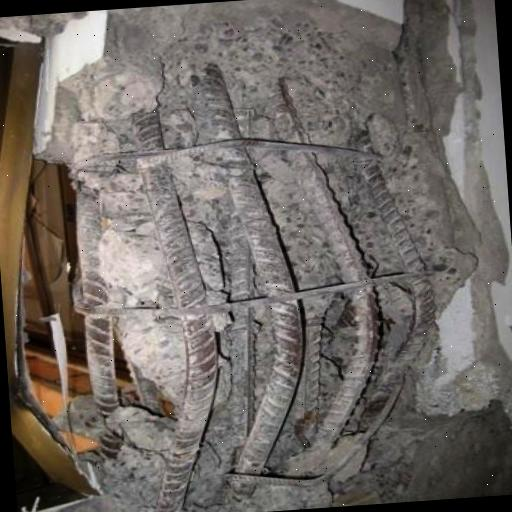spalling: (51, 9, 451, 507)
